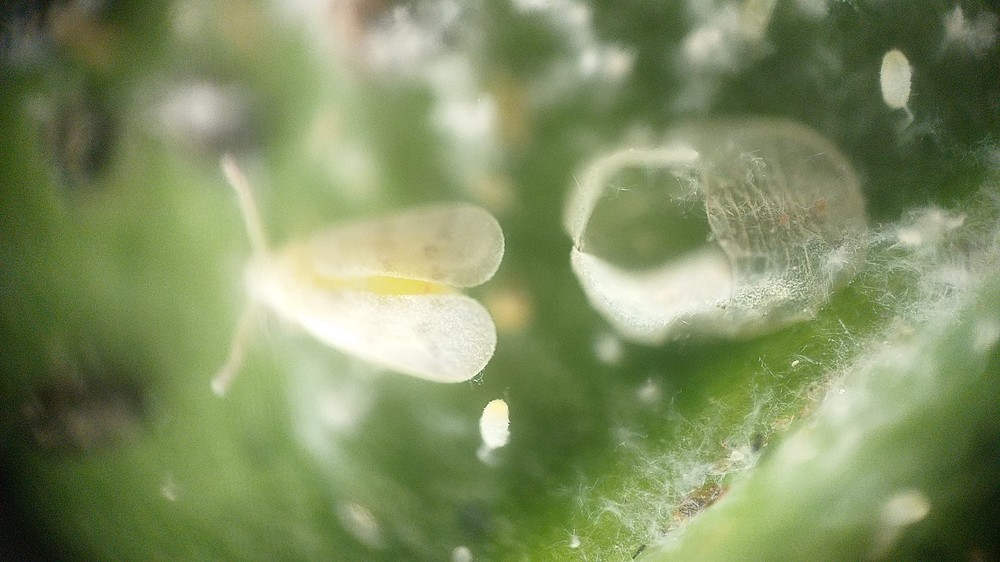Mosca Blanca: (174, 137, 534, 430)
